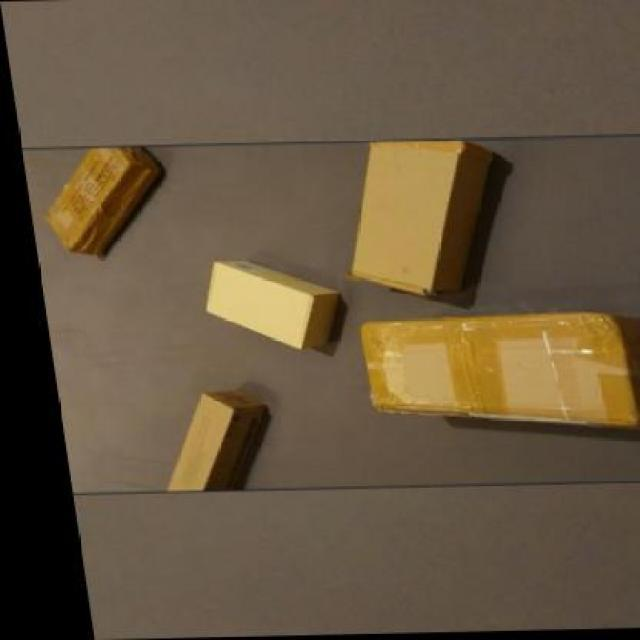box: (346, 311, 639, 431), (323, 142, 504, 298), (26, 148, 162, 256), (188, 260, 336, 352), (142, 389, 264, 491)
